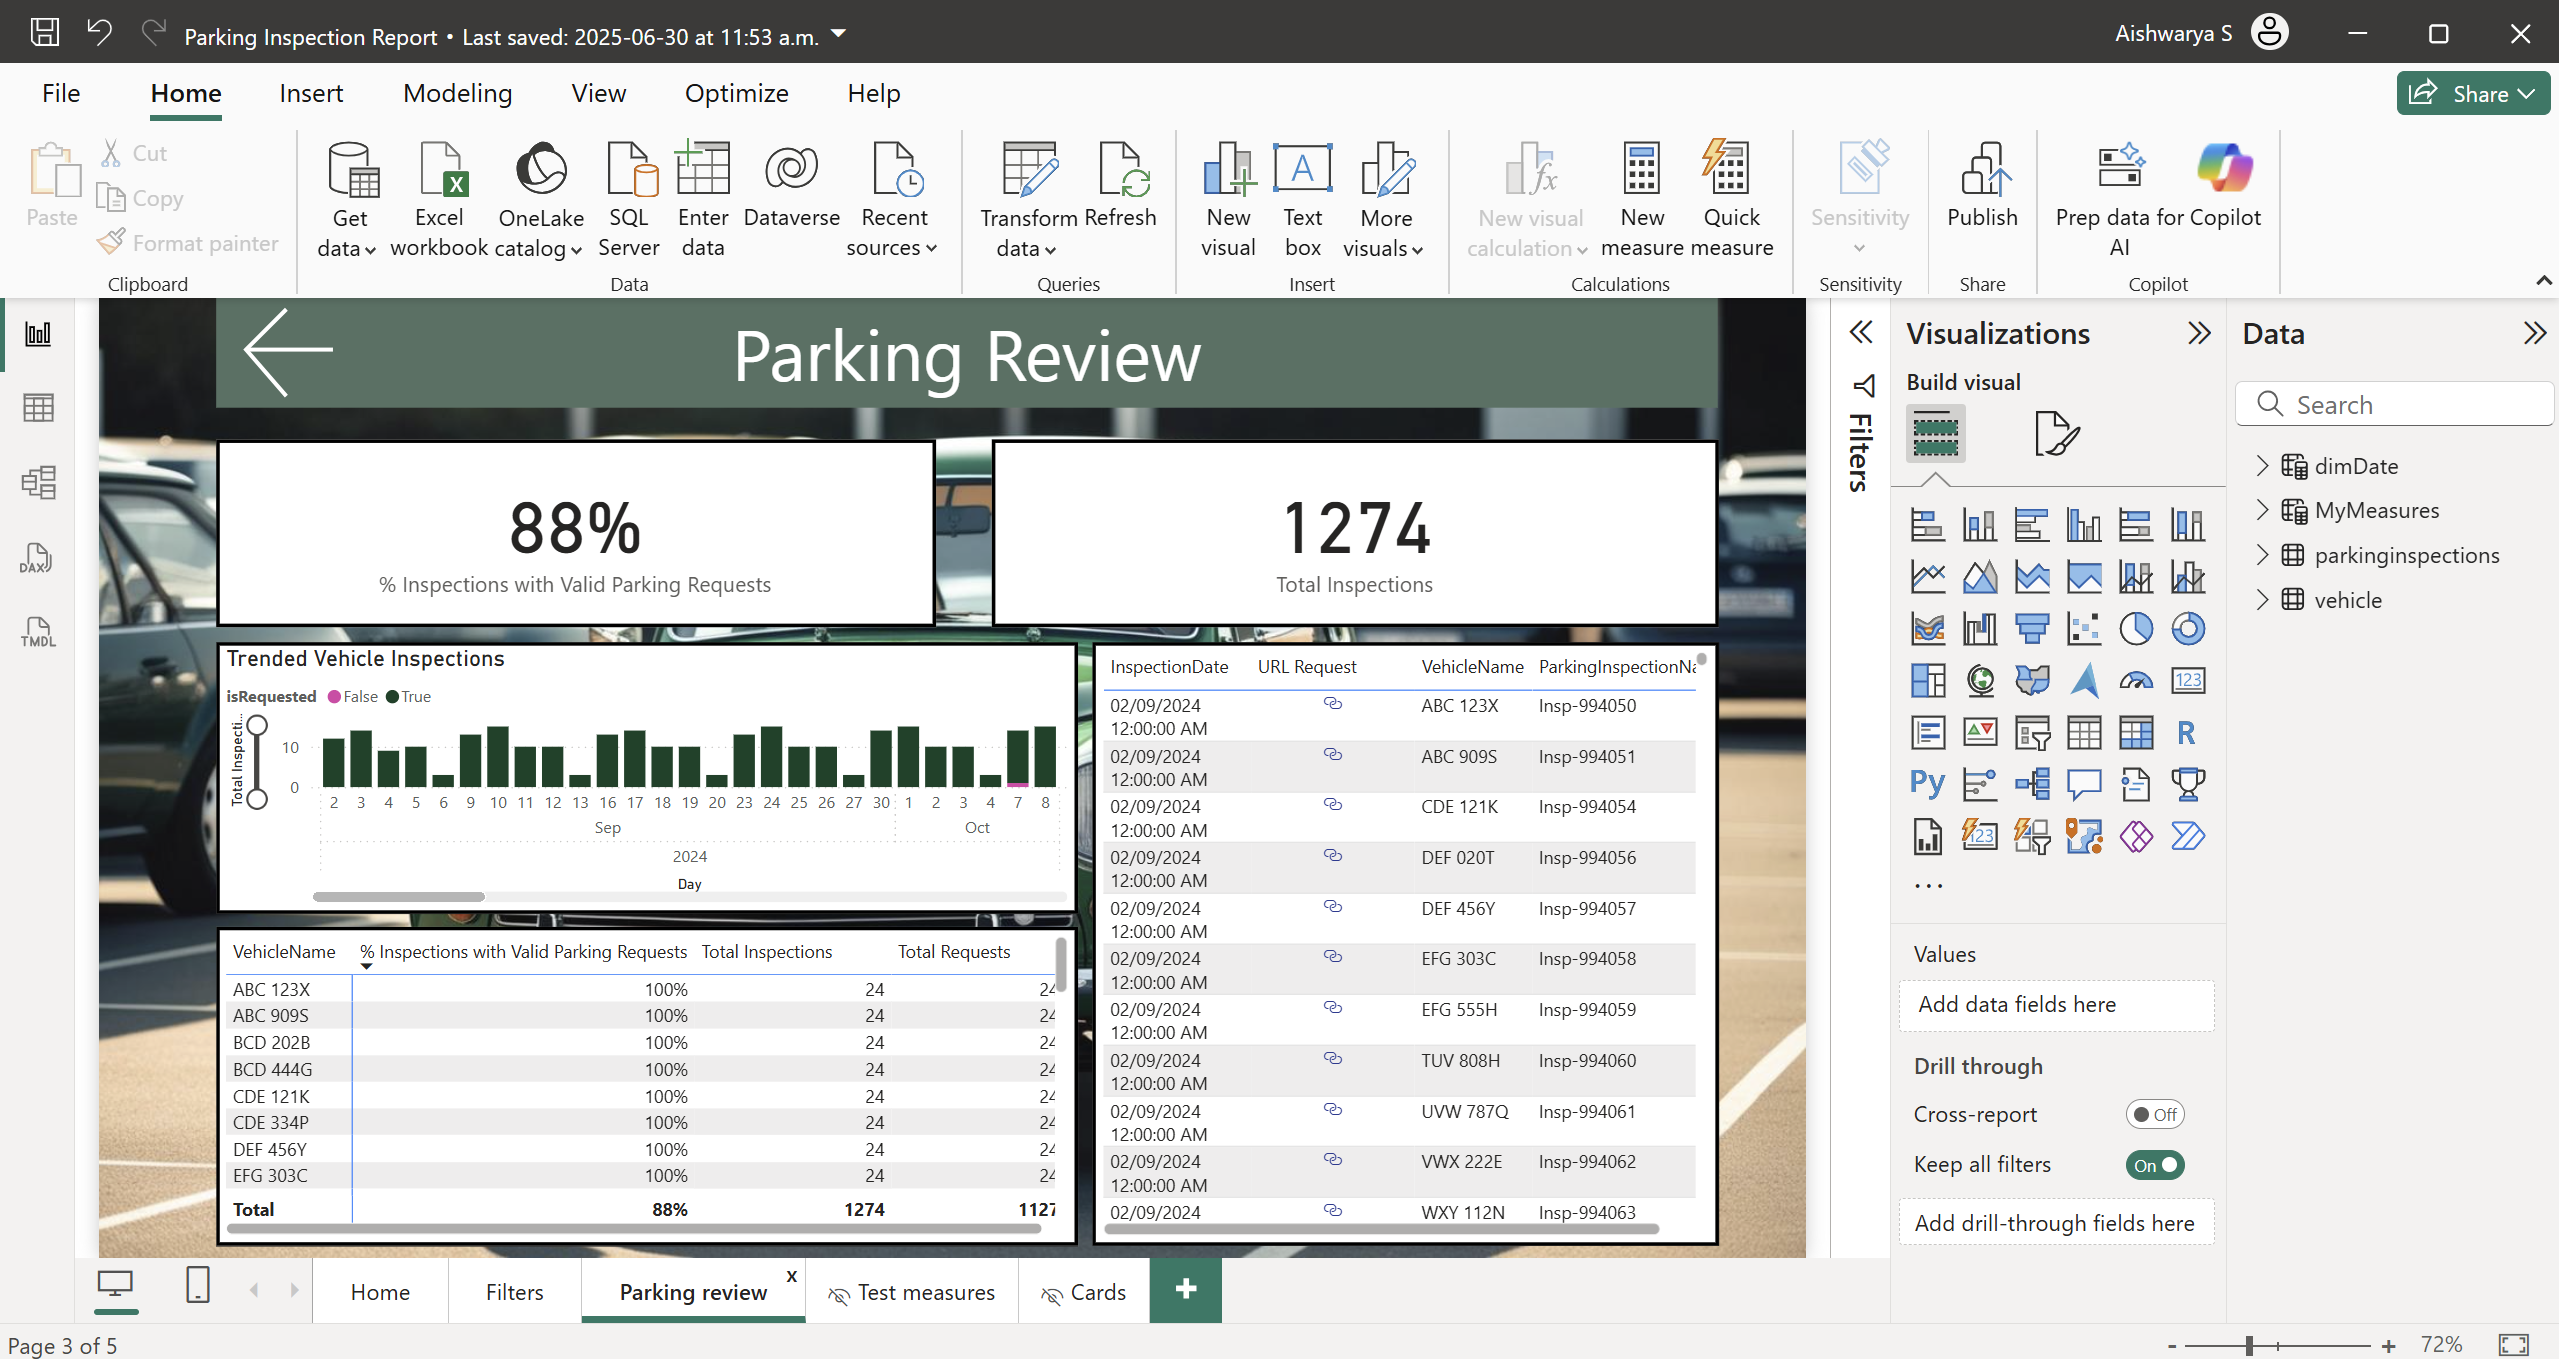

Layout of this report page (visuals, bound fields, positions):
{"tool":"powerbi","page":{"name":"Parking review","canvas":[1280,720],"ordinal":2},"visuals":[{"type":"textbox","box":[87.8,0,1125.9,82.5],"z":0},{"type":"actionButton","box":[101.1,0,99.8,82.5],"z":1000},{"type":"card","fields":{"Values":["MyMeasures.% Inspections with Valid Parking Requests"]},"box":[88.3,105.3,539.6,140.9],"z":2000},{"type":"card","fields":{"Values":["MyMeasures.Total Inspections"]},"box":[669.1,105.3,545.3,140.9],"z":3000},{"type":"lineStackedColumnComboChart","title":"Trended Vehicle Inspections ","fields":{"Category":["dimDate.Year","dimDate.Month","parkinginspections.InspectionDateTime.Variation.Date Hierarchy.Day"],"Y":["MyMeasures.Total Inspections"],"Series":["parkinginspections.isRequested"]},"box":[88.3,257.7,646.3,203.6],"z":4000},{"type":"pivotTable","fields":{"Rows":["vehicle.VehicleName"],"Values":["MyMeasures.% Inspections with Valid Parking Requests","MyMeasures.Total Inspections","MyMeasures.Total Requests"]},"box":[88.3,471.2,646.3,239.2],"z":5000},{"type":"tableEx","fields":{"Values":["parkinginspections.InspectionDate","parkinginspections.URL Request","vehicle.VehicleName","parkinginspections.ParkingInspectionName"]},"box":[744.6,257.7,469.8,452.7],"z":6000}]}

Visuals, with their boxes on the page's 1280x720 design canvas (x1, y1, x2, y2). These are canvas units, not pixel positions in the 2559x1359 screenshot, which may show the page scaled, cropped or inside an application window:
textbox: 88:0:1214:82
actionButton: 101:0:201:82
card - MyMeasures.% Inspections with Valid Parking Requests: 88:105:628:246
card - MyMeasures.Total Inspections: 669:105:1214:246
"Trended Vehicle Inspections " lineStackedColumnComboChart: 88:258:735:461
pivotTable - vehicle.VehicleName x MyMeasures.% Inspections with Valid Parking Requests: 88:471:735:710
tableEx - parkinginspections.InspectionDate x parkinginspections.URL Request: 745:258:1214:710
